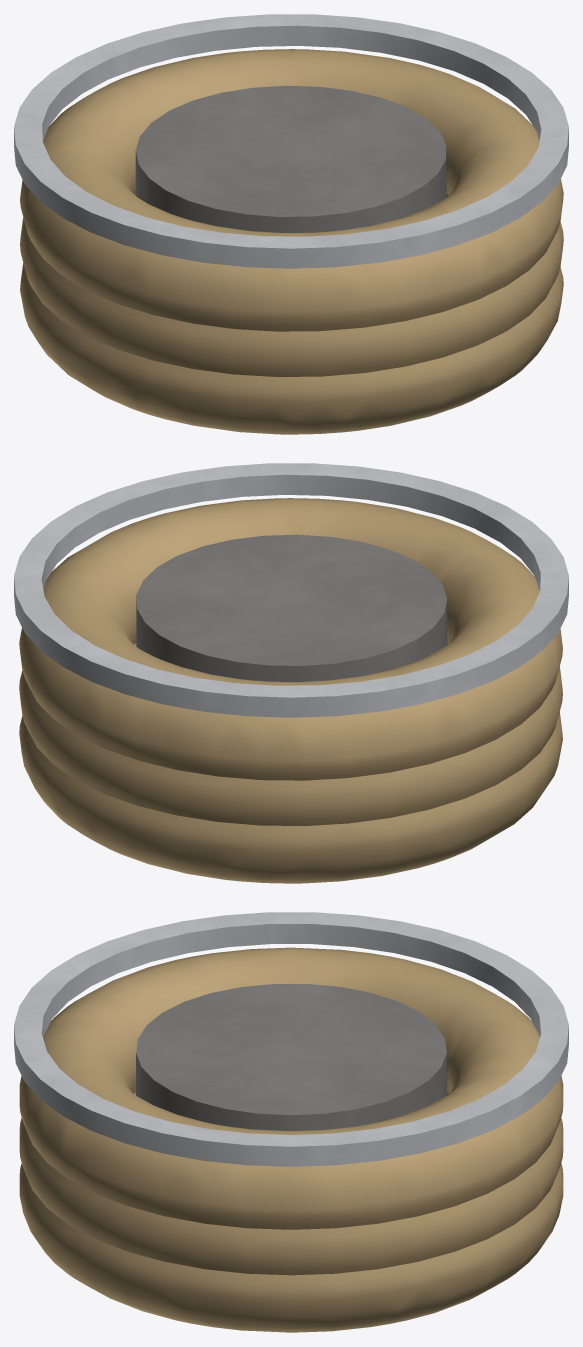
Rendered from stage06_hiad_l.glb.
3 renders of one model, top to bottom at view 1: azimuth 30°, elevation 25°; view 2: azimuth 150°, elevation 25°; view 3: azimuth 270°, elevation 25°, orthographic.
Visible parts, largest first — view 1: packed_tori, mount_ring, centre_body; view 2: packed_tori, mount_ring, centre_body; view 3: packed_tori, mount_ring, centre_body.
Part boxes in pixels (x1,y1,x2,y2): packed_tori: [20, 49, 563, 434]; mount_ring: [14, 14, 568, 268]; centre_body: [135, 85, 446, 232]; packed_tori: [19, 498, 562, 883]; mount_ring: [14, 463, 568, 717]; centre_body: [136, 534, 447, 681]; packed_tori: [19, 947, 563, 1332]; mount_ring: [14, 912, 568, 1166]; centre_body: [136, 984, 446, 1130].
Size of the model in its own units: 3.75 by 1.88 by 3.75.
Materials: 4 (3 with a texture image).
